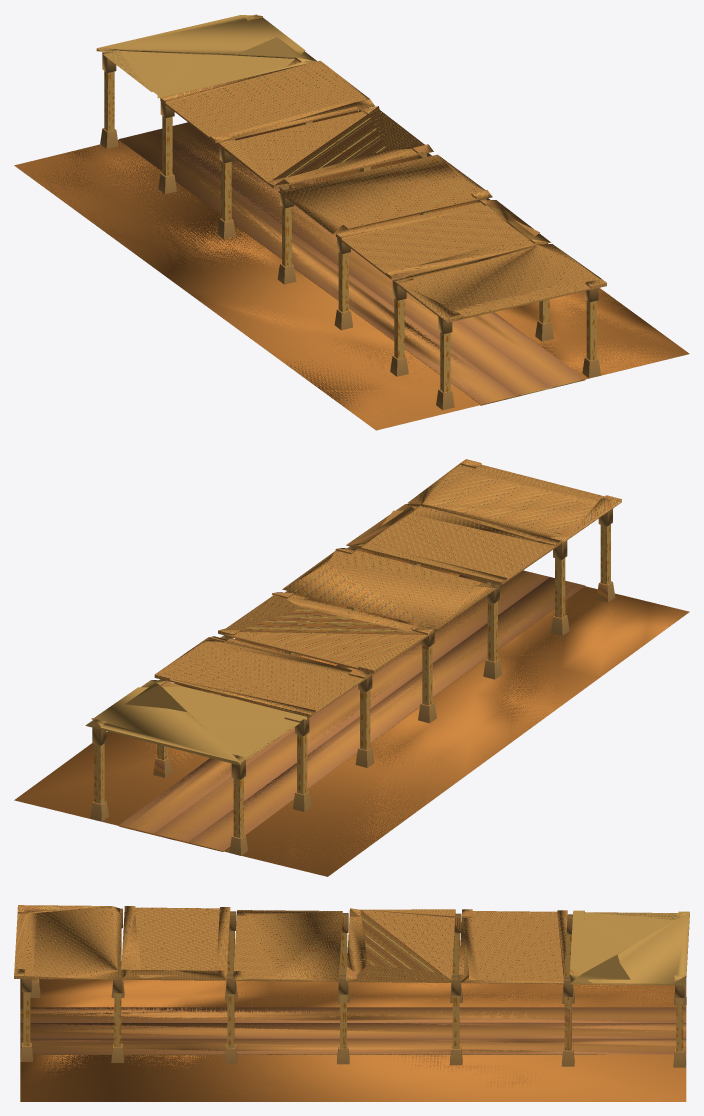
Rendered from tunnlewithroad1.fbx.
The picture shows the model from 3 angles, top to bottom: view 1: azimuth 30°, elevation 25°; view 2: azimuth 150°, elevation 25°; view 3: azimuth 270°, elevation 25°; orthographic projection. The views are drawn at different scales.
Visible parts, largest first — view 1: road_crossroadPath.005; view 2: road_crossroadPath.005; view 3: road_crossroadPath.005.
Part boxes in pixels (box(x1,y1,x2,y2)): road_crossroadPath.005: box(14, 14, 689, 430); road_crossroadPath.005: box(14, 459, 689, 876); road_crossroadPath.005: box(14, 905, 689, 1101).
Bounding box in the file's own units: 2701 × 788 × 5482.
